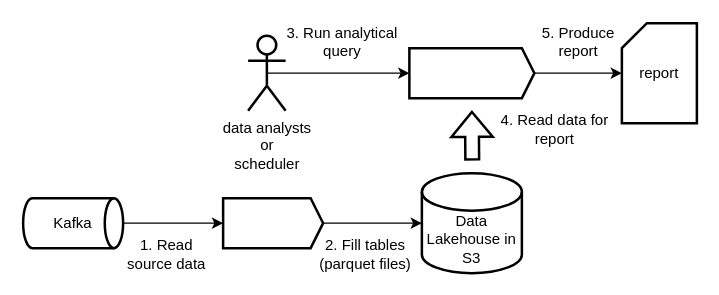
This 719x295 diagram has some shape labels left out. The centre of each missing label's shape, as x and y in pixels:
"Spark" goes at (272,222).
"Spark or Athena" goes at (471,72).
